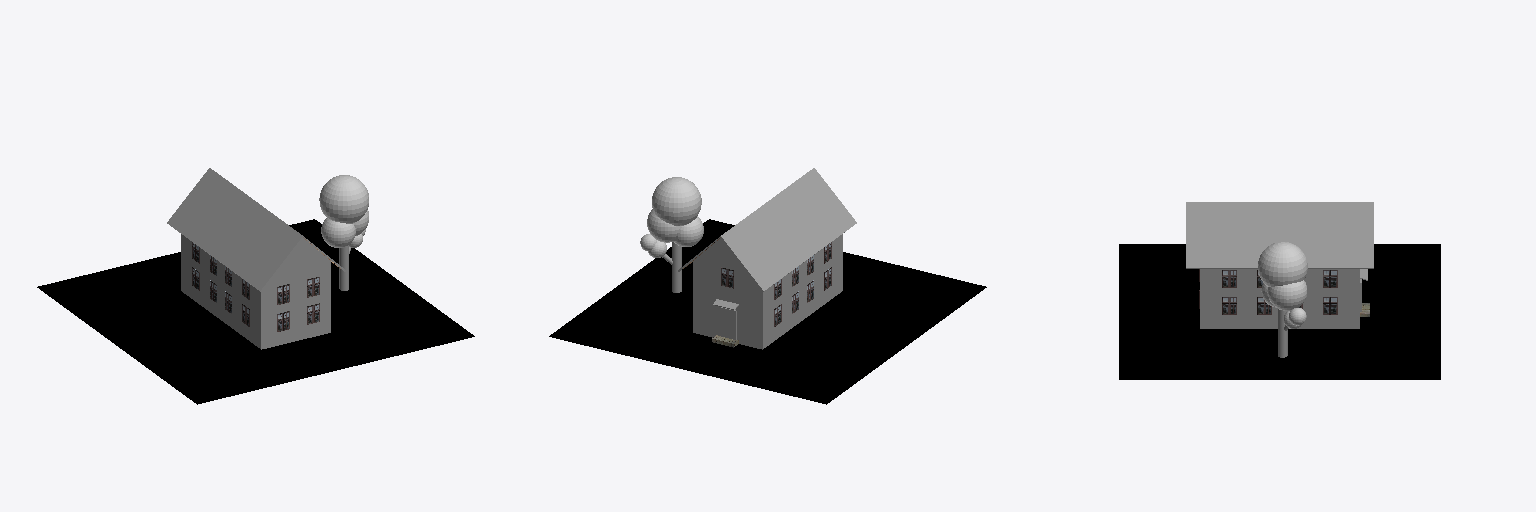
3 views of the same model, side by side, from view 1: azimuth 30°, elevation 25°; view 2: azimuth 150°, elevation 25°; view 3: azimuth 270°, elevation 25° (orthographic).
Parts seen in each view (by area): view 1: Plane.004, Roof_Cube.002, Wall_Left_Cube.001, Wall_Front.002_Cube.021, Sphere.002, Sphere.001; view 2: Plane.004, Roof_Cube.002, Wall_Right_Cube.008, Wall_Front.002_Cube.021, Sphere.002, Sphere, Sphere.001, Wall_Back.001_Cube.016; view 3: Plane.004, Roof_Cube.002, Wall_Front_Cube.011, Sphere.002, Sphere.
Part boxes in pixels (x1,y1,x2,y2): Plane.004: (37,219,474,404); Roof_Cube.002: (167,168,345,291); Wall_Left_Cube.001: (265,238,330,348); Wall_Front.002_Cube.021: (181,234,264,349); Sphere.002: (319,175,368,223); Sphere.001: (321,218,355,247); Plane.004: (549,219,986,404); Roof_Cube.002: (678,168,856,291); Wall_Right_Cube.008: (693,238,758,348); Wall_Front.002_Cube.021: (759,234,842,349); Sphere.002: (652,177,701,225); Sphere: (647,209,680,242); Sphere.001: (674,216,703,246); Wall_Back.001_Cube.016: (718,307,736,339); Plane.004: (1119,244,1440,379); Roof_Cube.002: (1186,202,1373,268); Wall_Front_Cube.011: (1200,269,1359,328); Sphere.002: (1258,242,1307,286); Sphere: (1267,280,1306,310).
Size of the model in its own units: 16 by 6.13 by 16.
12 materials, 3 textured.